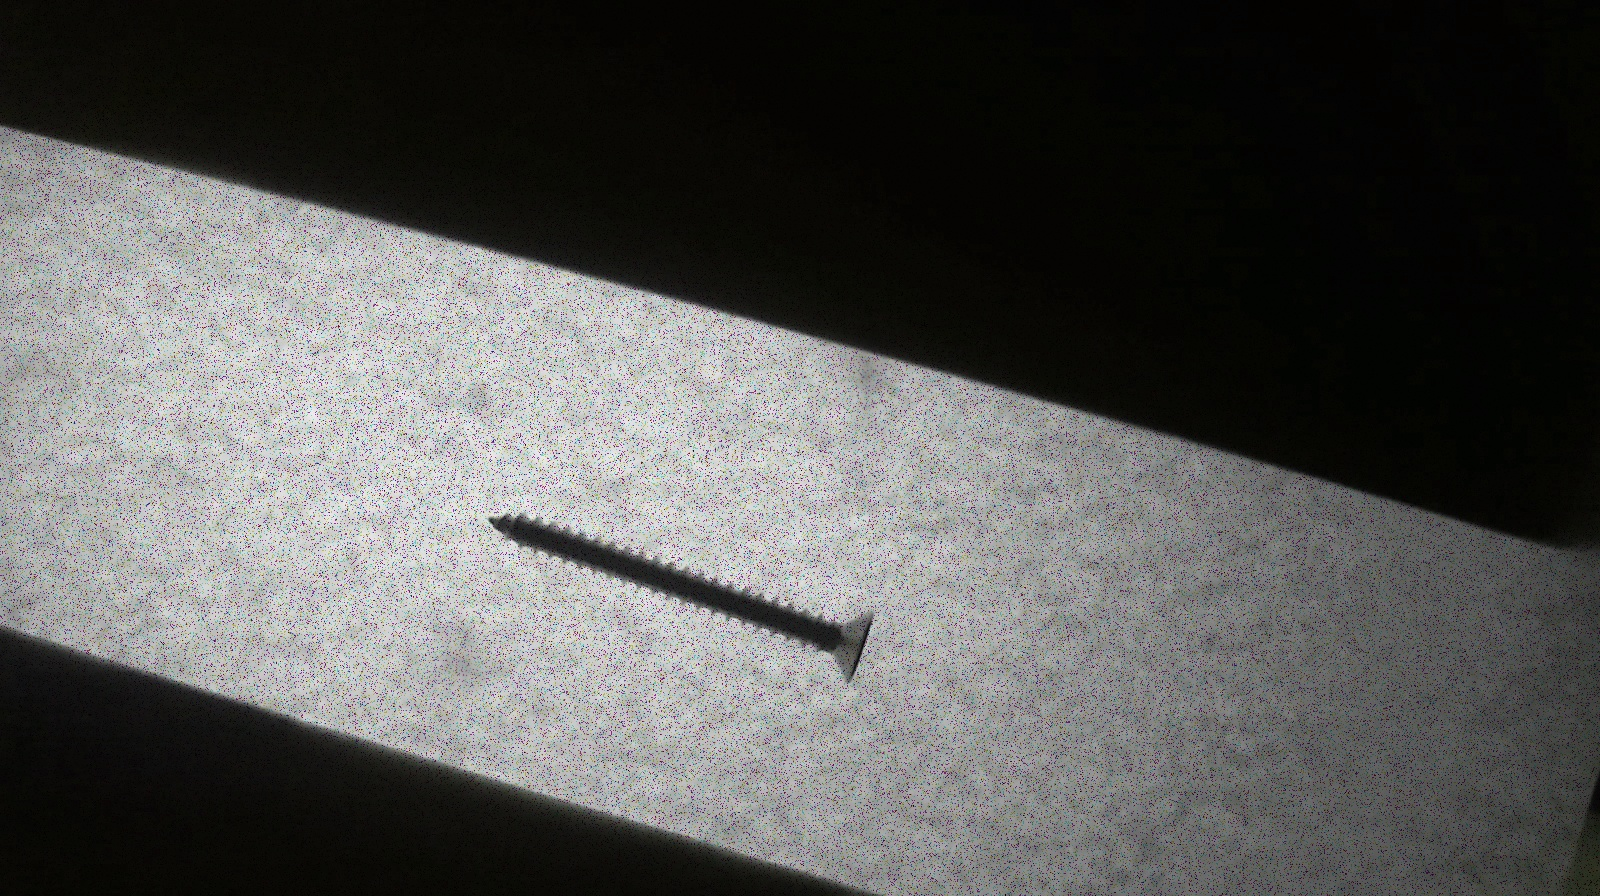S002: (470, 486, 898, 696)
